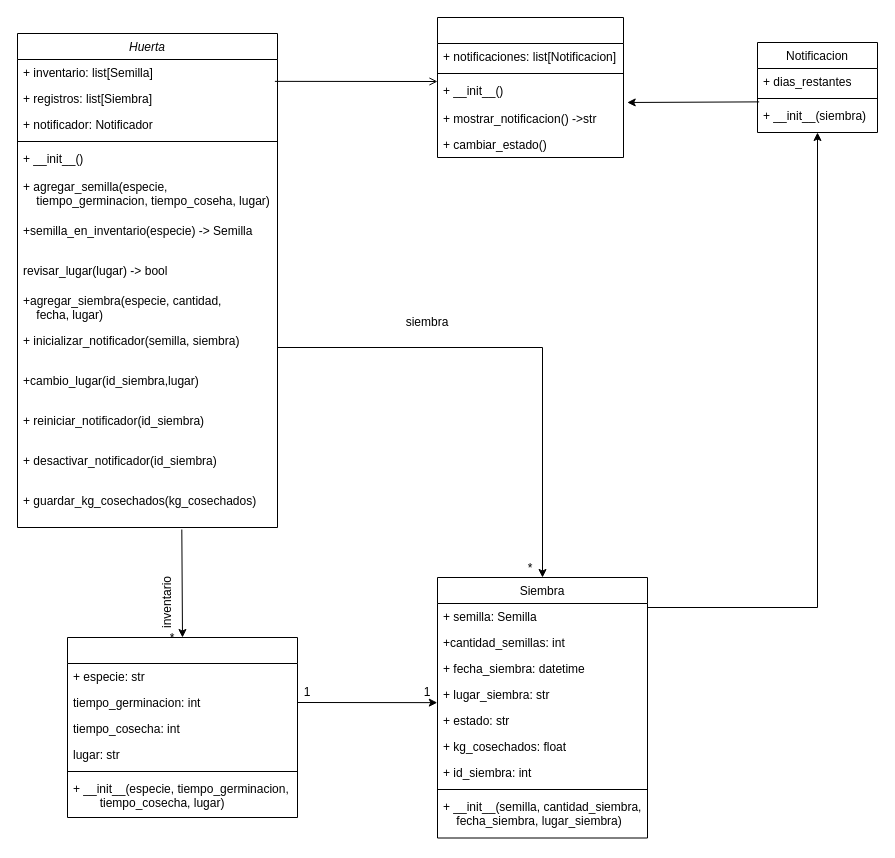
The diagram is 895 pixels wide and 858 high, and some of its shapes have lost their labels. Each missing label, with the box of its shape:
Notificador: (436, 16, 624, 158)
Semilla: (66, 636, 298, 818)
